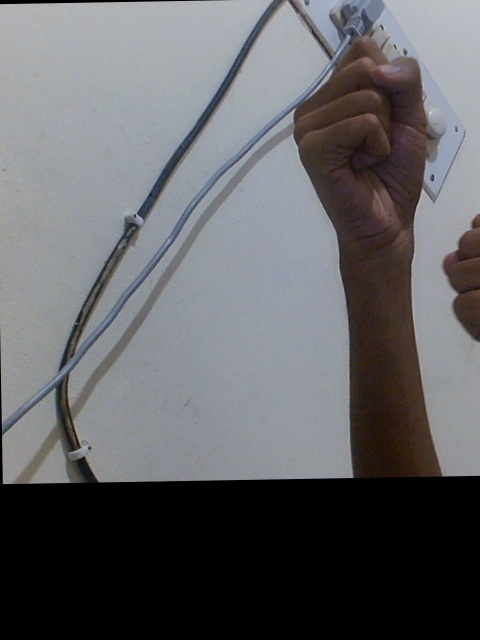hand: (283, 29, 433, 254)
